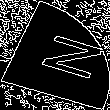N_W: (16, 28, 94, 82)
